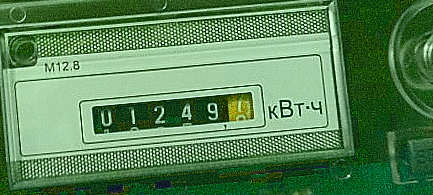0: (98, 106, 114, 127)
1: (125, 104, 139, 126)
2: (150, 102, 168, 125)
4: (179, 99, 193, 121)
7: (232, 92, 247, 113)
9: (205, 99, 220, 121)
screen: (75, 79, 270, 146)
